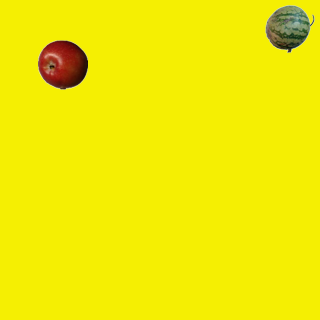Apple Braeburn: (37, 39, 87, 89)
Watermelon: (264, 3, 314, 53)
